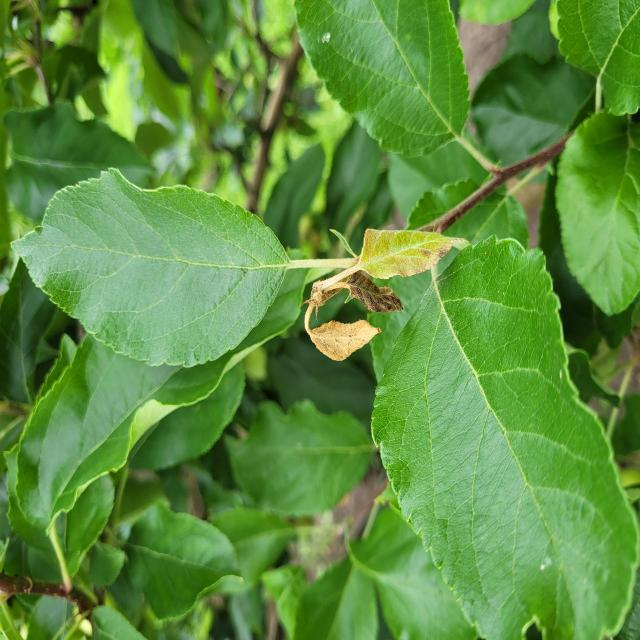-FireBlight-: (298, 226, 464, 362)
